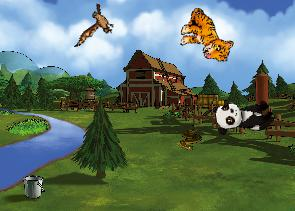eagle: (74, 0, 117, 52)
panda: (212, 96, 275, 136)
tiger: (174, 5, 240, 65)
